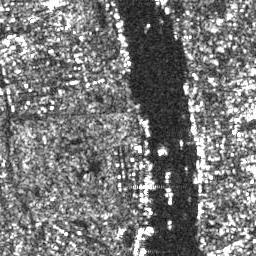ship: (116, 31, 129, 47), (142, 120, 151, 137), (182, 81, 190, 97), (132, 241, 139, 256), (136, 227, 144, 240), (196, 145, 201, 157)
